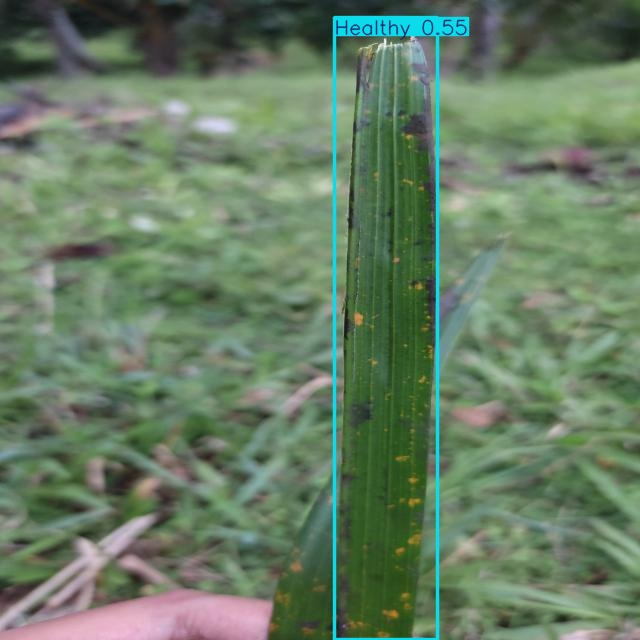Healthy: (334, 18, 438, 640)
